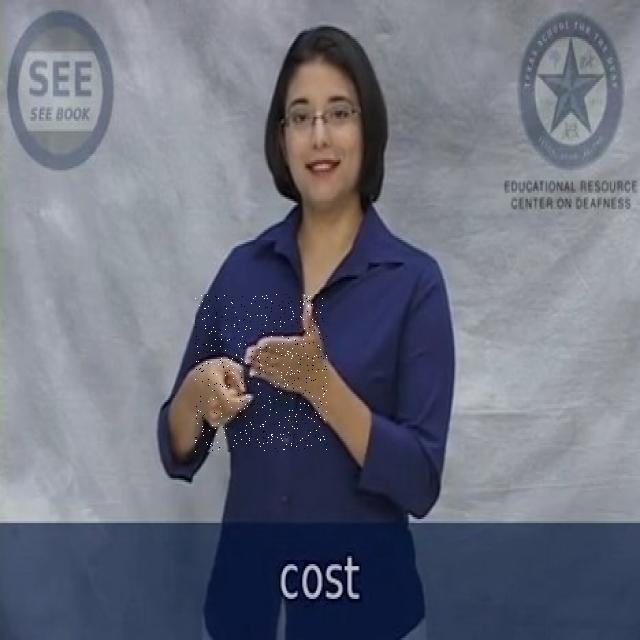cost: (195, 294, 328, 452)
